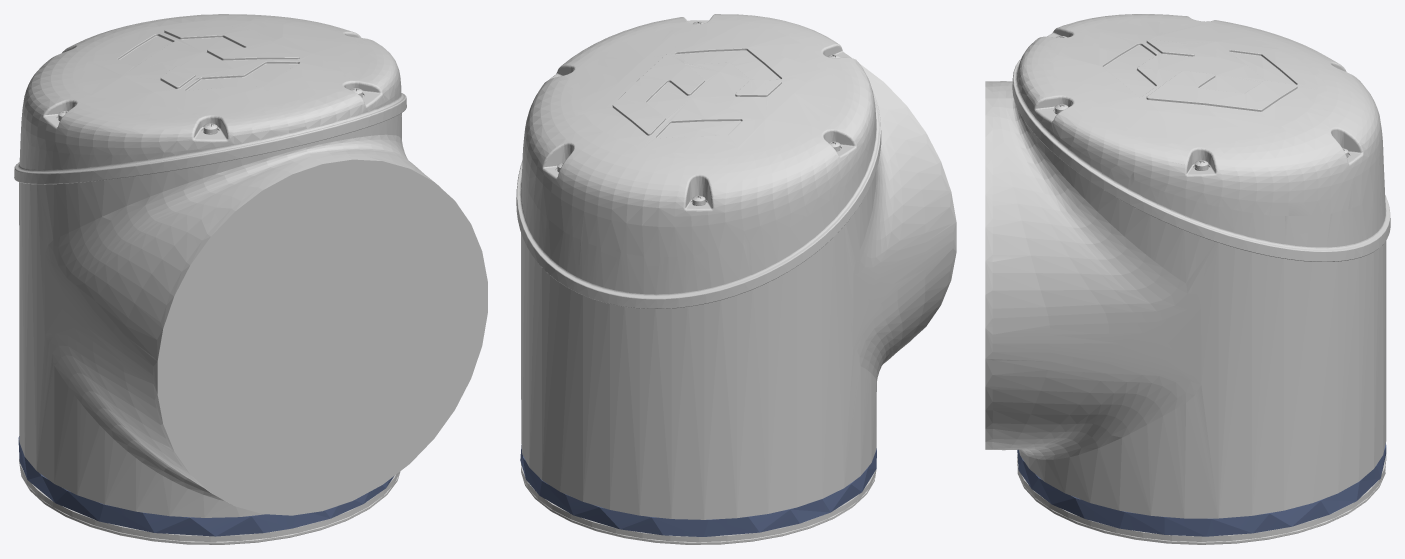
The model's file is shoulder.dae.
3 views of the same model, side by side, from view 1: azimuth 30°, elevation 25°; view 2: azimuth 150°, elevation 25°; view 3: azimuth 270°, elevation 25° (orthographic). The views are drawn at different scales.
Parts seen in each view (by area): view 1: cs616_link1_part1, cs616_link1_part2; view 2: cs616_link1_part1, cs616_link1_part2; view 3: cs616_link1_part1, cs616_link1_part2.
Part boxes in pixels (x1,y1,x2,y2): cs616_link1_part1: (14, 14, 487, 544); cs616_link1_part2: (18, 436, 393, 536); cs616_link1_part1: (516, 14, 956, 544); cs616_link1_part2: (520, 445, 876, 536); cs616_link1_part1: (985, 14, 1390, 544); cs616_link1_part2: (1017, 443, 1386, 536).
Size of the model in its own units: 0.1559 by 0.1668 by 0.183.
